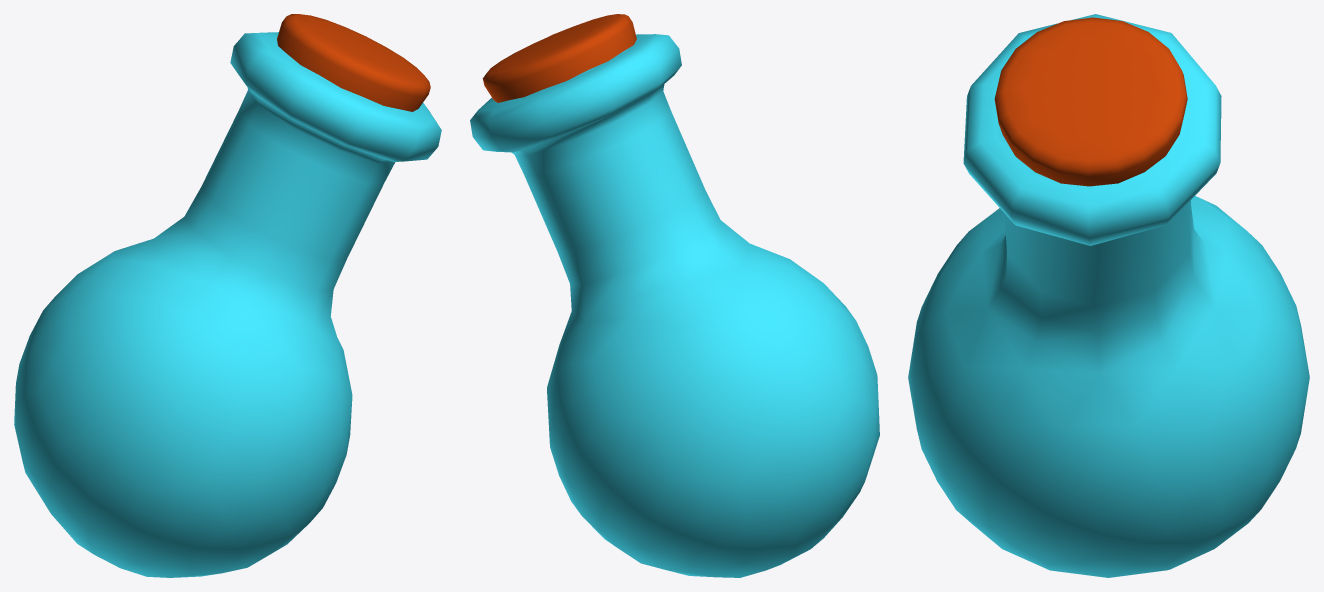
The picture shows the model from 3 angles, left to right: view 1: azimuth 30°, elevation 25°; view 2: azimuth 150°, elevation 25°; view 3: azimuth 270°, elevation 25°; orthographic projection. The views are drawn at different scales.
Parts seen in each view (by area): view 1: Icosphere.001, Cylinder; view 2: Icosphere.001, Cylinder; view 3: Icosphere.001, Cylinder.
Part boxes in pixels (x1,y1,x2,y2): Icosphere.001: [14, 32, 441, 577]; Cylinder: [277, 14, 430, 111]; Icosphere.001: [470, 34, 879, 577]; Cylinder: [482, 14, 636, 102]; Icosphere.001: [908, 14, 1309, 577]; Cylinder: [994, 17, 1187, 186].
Size of the model in its own units: 80.48 by 102 by 61.51.
